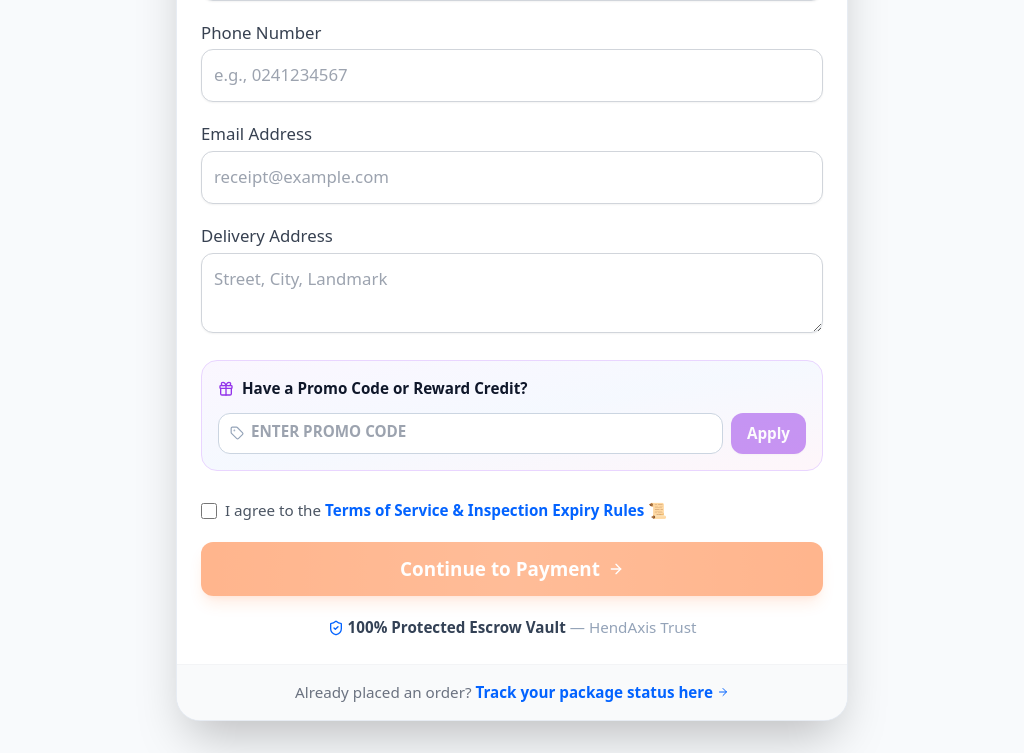
Test: PublicCheckoutView Integration Tests › dynamically updates Net Escrow Fee and Total Buyer Payment when promo code is applied
(page scrolled)
Find promo code input and enter PROMO10
Type "PROMO10" into the field with placeholder "ENTER PROMO CODE". click: [470, 433]
box: [218,413,723,454]
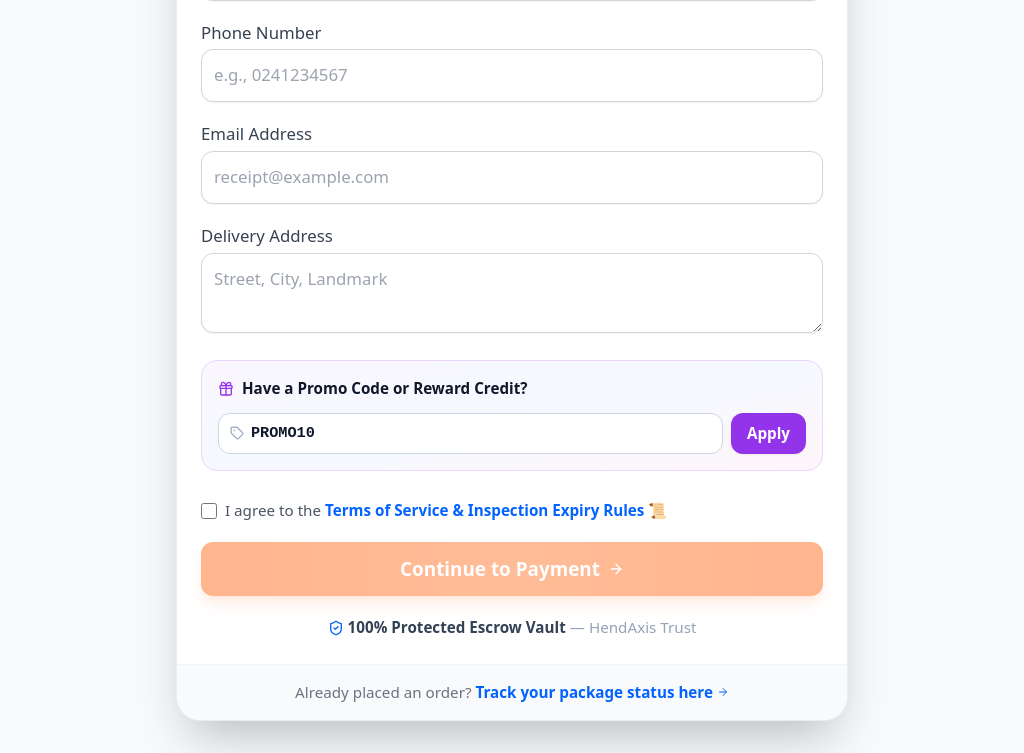
Click the button "Apply". click: [768, 433]
box: [731,413,806,454]
(page scrolled)
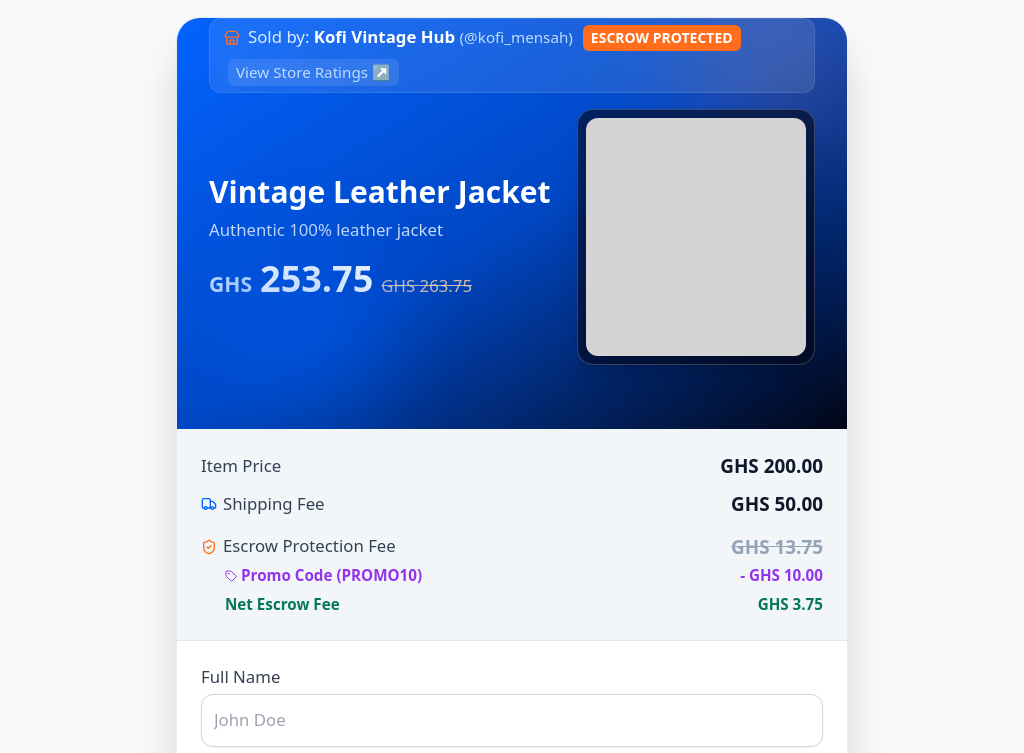
expect the text "Net Escrow Fee" is shown: met, box [225,593,340,616]
expect the text "GHS 3.75" is shown: met, box [758,593,823,616]
expect the text "253.75" is shown: met, box [260,259,373,299]
